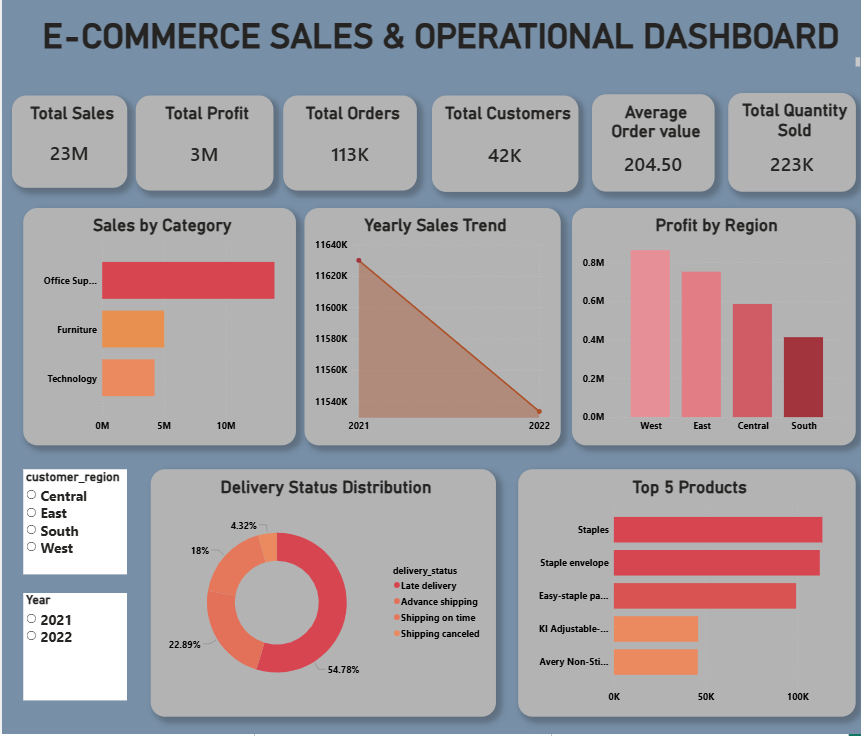

What the dashboard file says about the page in this screenshot:
{"tool":"powerbi","page":{"name":"E-COMMERCE SALES & OPERATIONAL DASHBOARD","canvas":[1500,1300],"ordinal":0},"visuals":[{"type":"cardVisual","title":"Total Sales","fields":{"Data":["Table1.Total Sales"]},"box":[17.4,187.3,200.4,161.2],"z":0},{"type":"cardVisual","title":"Total Profit","fields":{"Data":["Table1.Total Profit"]},"box":[233.1,187.3,239.6,165.6],"z":1000},{"type":"cardVisual","title":"Total Orders","fields":{"Data":["Table.Total Orders"]},"box":[490.1,187.3,233.1,165.6],"z":2000},{"type":"cardVisual","title":"Total Customers","fields":{"Data":["Table1.Total Customers"]},"box":[749.3,187.3,254.9,167.7],"z":3000},{"type":"cardVisual","title":"Average Order value","fields":{"Data":["Table1.Average Order Value"]},"box":[1028.2,185.2,213.5,169.9],"z":4000},{"type":"cardVisual","title":"Total Quantity Sold","fields":{"Data":["Table1.Total Quantity"]},"box":[1265.6,183,222.2,172.1],"z":5000},{"type":"clusteredBarChart","title":"Sales by Category","fields":{"Category":["Table1.category_name"],"Y":["Table1.Total Sales"]},"box":[37,383.4,474.9,413.9],"z":6000},{"type":"clusteredColumnChart","title":"Profit by Region","fields":{"Category":["Table1.customer_region"],"Y":["Table.Total Profit"]},"box":[993.3,383.4,494.5,413.9],"z":7000},{"type":"areaChart","title":"Yearly Sales Trend","fields":{"Category":["Table.Year"],"Y":["Table.Total Sales"]},"box":[527.1,383.4,446.6,413.9],"z":8000},{"type":"donutChart","title":"Delivery Status Distribution ","fields":{"Category":["Table.delivery_status"],"Y":["CountNonNull(Table.order_id)"]},"box":[259.2,838.6,601.2,431.3],"z":9000},{"type":"clusteredBarChart","title":"Top 5 Products","fields":{"Category":["Table.product_name"],"Y":["Table.Total Sales"]},"box":[899.6,838.6,588.1,431.3],"z":10000},{"type":"textbox","title":"E-COMMERCE SALES & OPERATIONAL DASHBOARD","box":[28.3,47.9,1472.5,93.7],"z":11000},{"type":"listSlicer","fields":{"Values":["Table.customer_region"]},"box":[37,838.6,180.8,183],"z":12000},{"type":"listSlicer","fields":{"Values":["Table.Year"]},"box":[37,1054.3,180.8,187.3],"z":13000}]}

Visuals, with their boxes in screenshot pixels (x1, y1, x2, y2), scaled from the page's 1500x1300 canvas onto the 861x736 screenshot:
"Total Sales" cardVisual: locate(10, 106, 125, 197)
"Total Profit" cardVisual: locate(134, 106, 271, 200)
"Total Orders" cardVisual: locate(281, 106, 415, 200)
"Total Customers" cardVisual: locate(430, 106, 576, 201)
"Average Order value" cardVisual: locate(590, 105, 713, 201)
"Total Quantity Sold" cardVisual: locate(726, 104, 854, 201)
"Sales by Category" clusteredBarChart: locate(21, 217, 294, 451)
"Profit by Region" clusteredColumnChart: locate(570, 217, 854, 451)
"Yearly Sales Trend" areaChart: locate(303, 217, 559, 451)
"Delivery Status Distribution " donutChart: locate(149, 475, 494, 719)
"Top 5 Products" clusteredBarChart: locate(516, 475, 854, 719)
"E-COMMERCE SALES & OPERATIONAL DASHBOARD" textbox: locate(16, 27, 860, 80)
listSlicer - Table.customer_region: locate(21, 475, 125, 578)
listSlicer - Table.Year: locate(21, 597, 125, 703)
